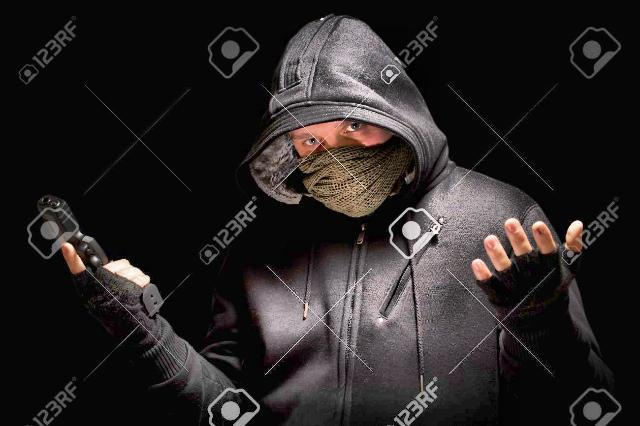pistol: (33, 195, 175, 320)
